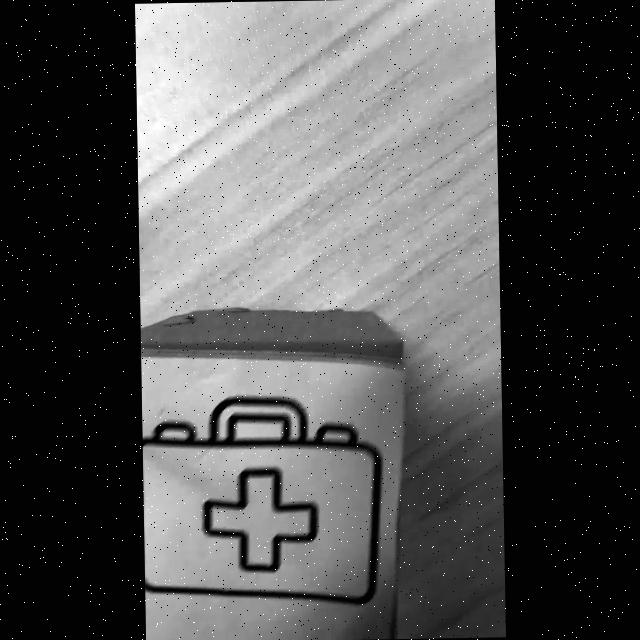Medkit: (142, 396, 381, 603)
